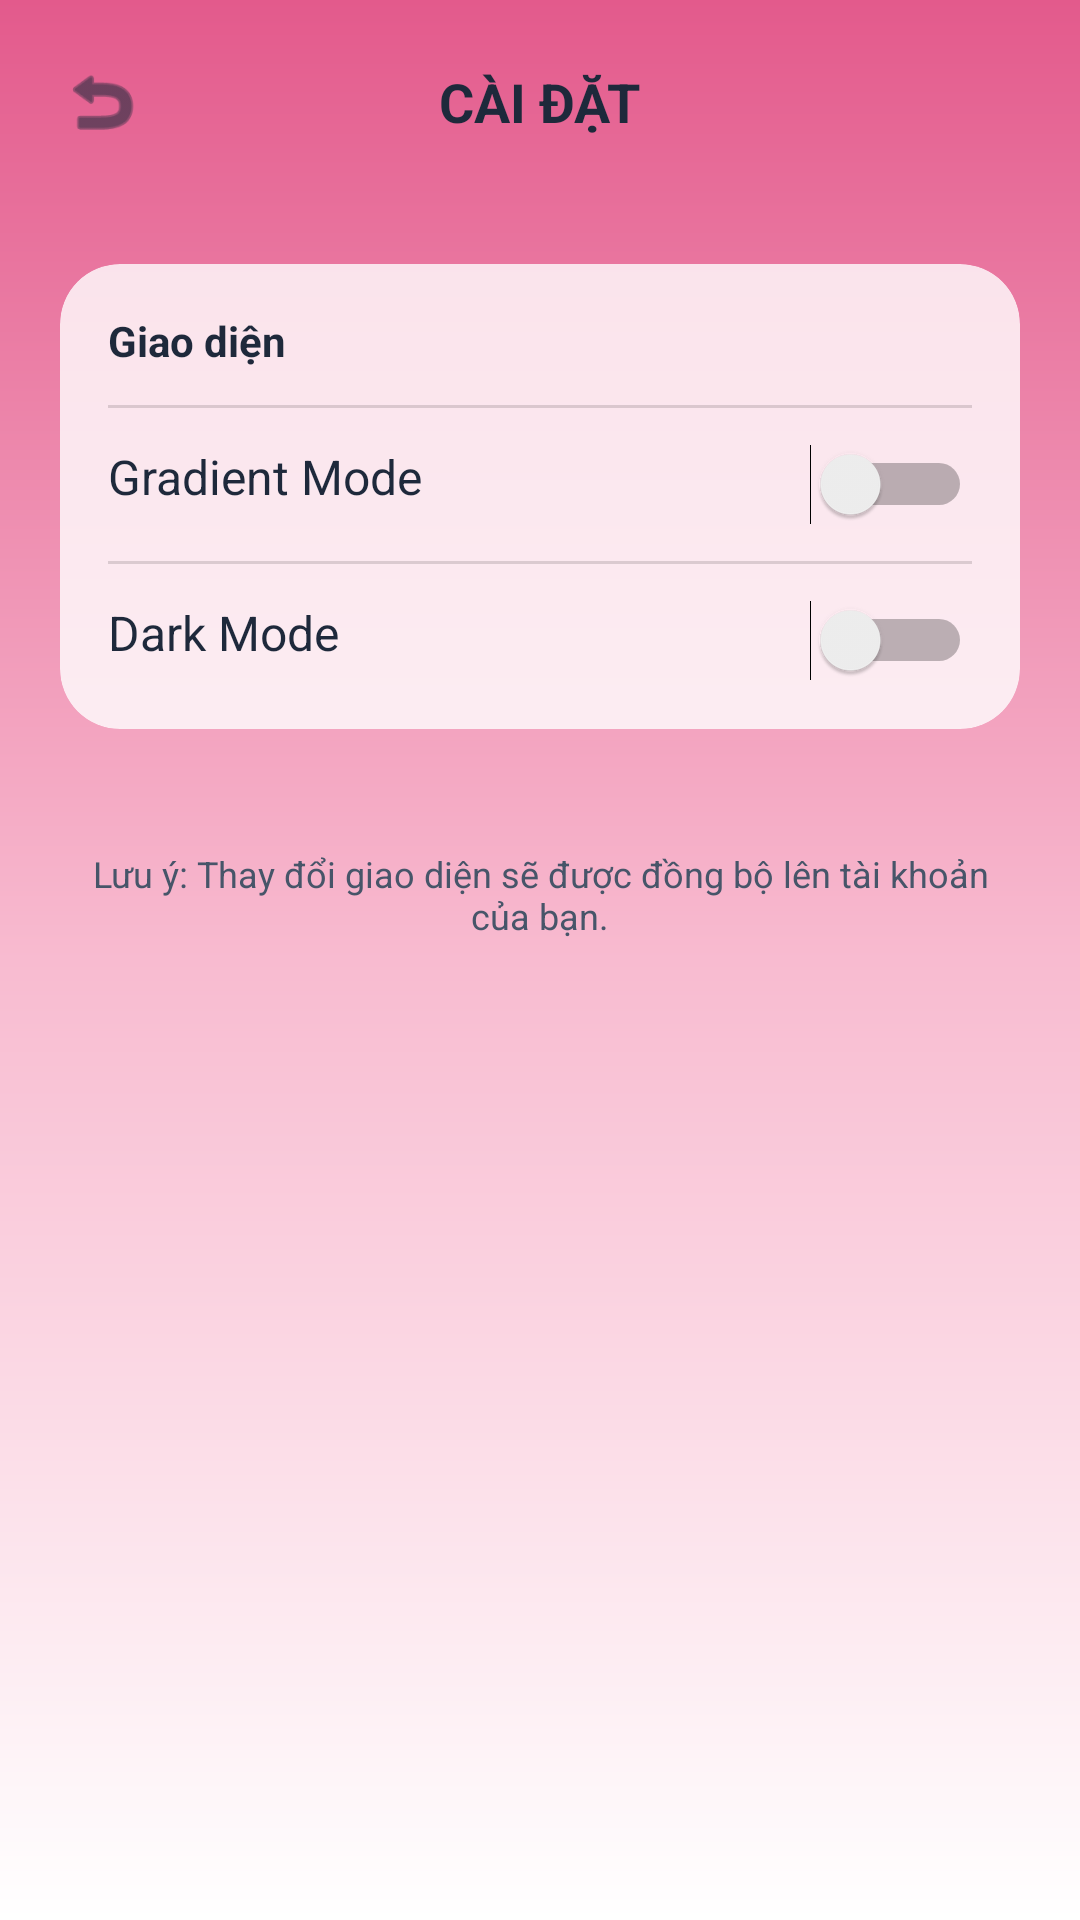

Where to tap for icons on this 1080x1920 app screen, as [x,y]:
revert: [103,102]
